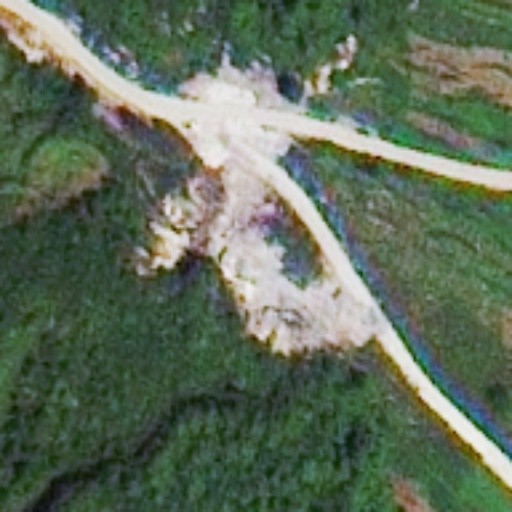landslide: (141, 174, 377, 353), (179, 56, 279, 109)
